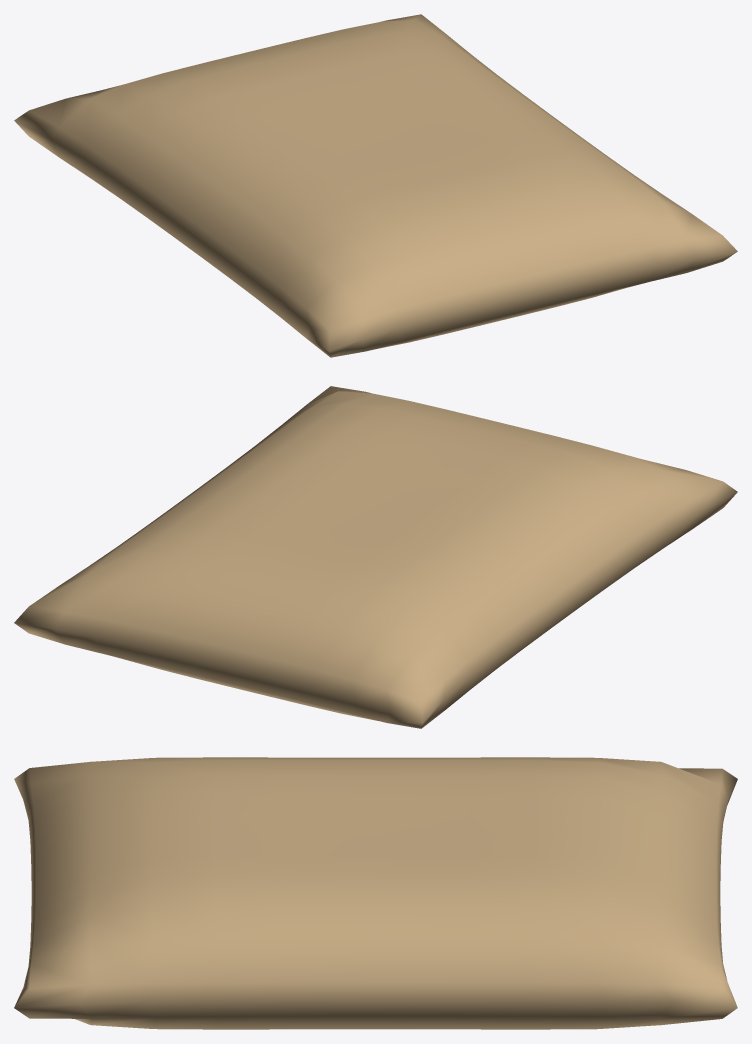
Rendered from 34ba8c34-285d-4057-a979-9982b2c5bfc3.glb.
3 views of the same model, one above another, from view 1: azimuth 30°, elevation 25°; view 2: azimuth 150°, elevation 25°; view 3: azimuth 270°, elevation 25° (orthographic). The views are drawn at different scales.
Parts seen in each view (by area): view 1: BagOfSand; view 2: BagOfSand; view 3: BagOfSand.
Part boxes in pixels (x1,y1,x2,y2): BagOfSand: (14,14,737,357); BagOfSand: (14,386,737,728); BagOfSand: (14,757,737,1029).
Size of what is drawn, in the model's own units: 0.5185 by 0.1423 by 0.6924.
Materials: 1 (1 with a texture image).
